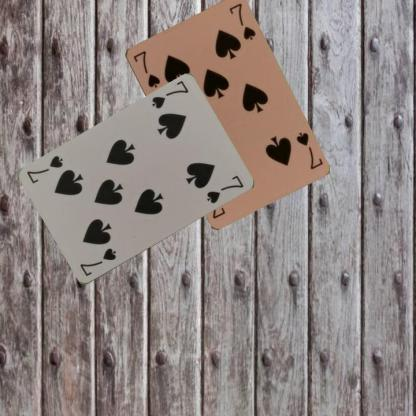7s: (149, 78, 190, 111), (292, 128, 324, 170), (77, 246, 118, 278), (130, 48, 161, 90)
